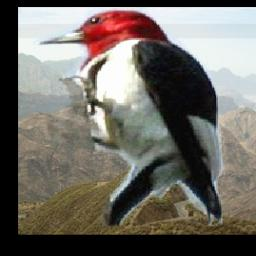Woodpecker: (31, 9, 226, 227)
